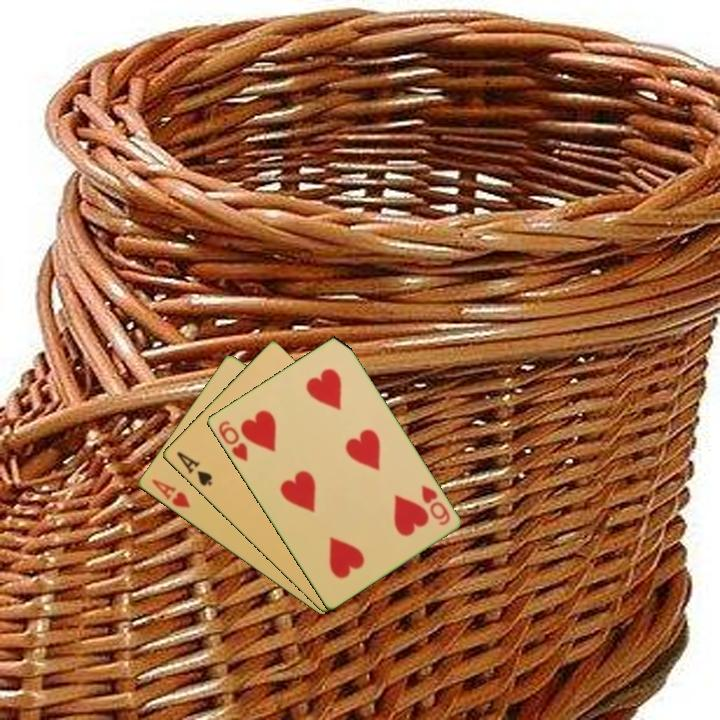6h: (214, 417, 250, 465), (417, 481, 453, 528)
Ah: (147, 475, 193, 511)
As: (173, 448, 215, 489)
